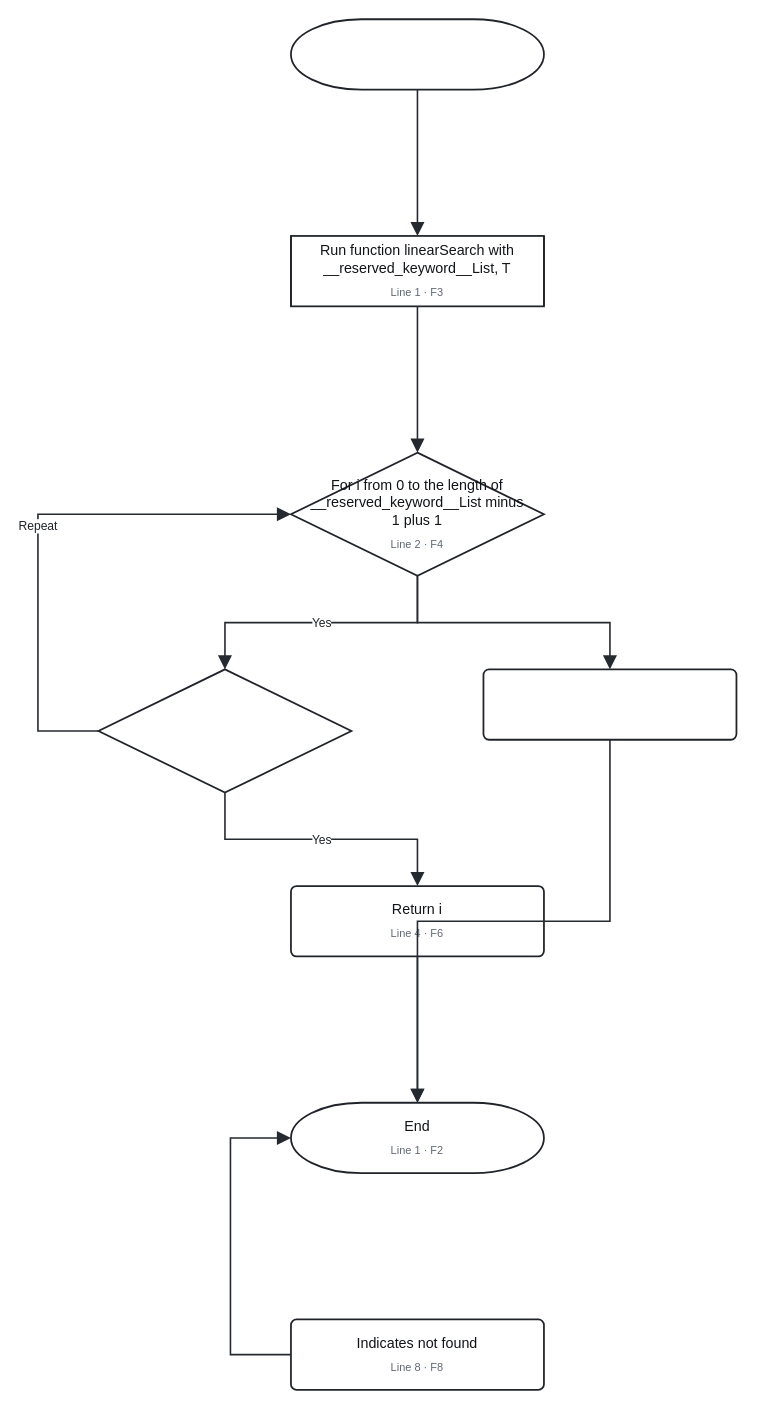
Image size: 757x1410. Some labels were removed from this diagram. The shapes that lost their labels are listed below. From the top down, each one's centre as x and y in pixels, then its label:
pixel 417 54: Start Line 1 · F1
pixel 609 704: Return negative 1 Line 7 · F7
pixel 224 730: Item i of __reserved_keyword__List is equal to T? Line 3 · F5
